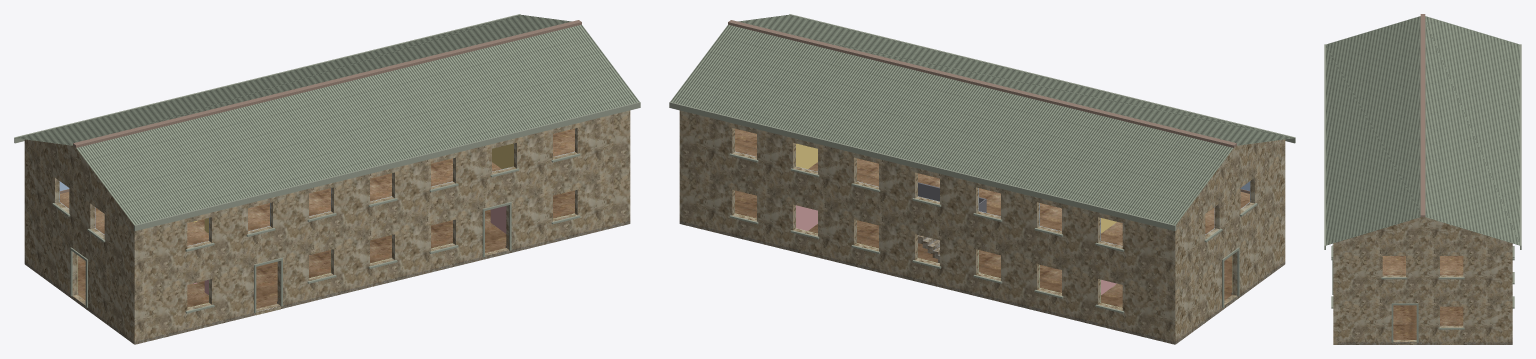
The model's file is barracks-2s.windows-v1.lod0.glb.
3 views of the same model, side by side, from view 1: azimuth 30°, elevation 25°; view 2: azimuth 150°, elevation 25°; view 3: azimuth 270°, elevation 25° (orthographic). The views are drawn at different scales.
Parts seen in each view (by area): view 1: barracks-2s; view 2: barracks-2s; view 3: barracks-2s.
Boxes of the visible parts, bbox=[...] form: barracks-2s: bbox=[14, 14, 640, 344]; barracks-2s: bbox=[669, 14, 1295, 344]; barracks-2s: bbox=[1324, 14, 1521, 344].
Bounding box in the file's own units: 26.54 × 8.1 × 10.98.
Materials: 4 (3 with a texture image).
